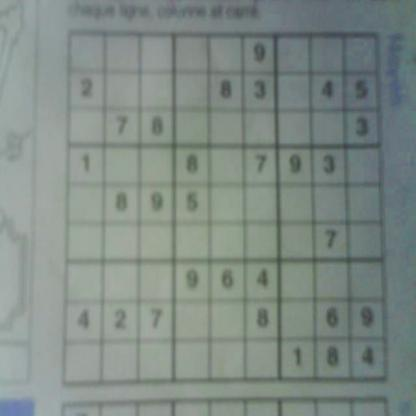sudoku: (59, 25, 392, 392)
